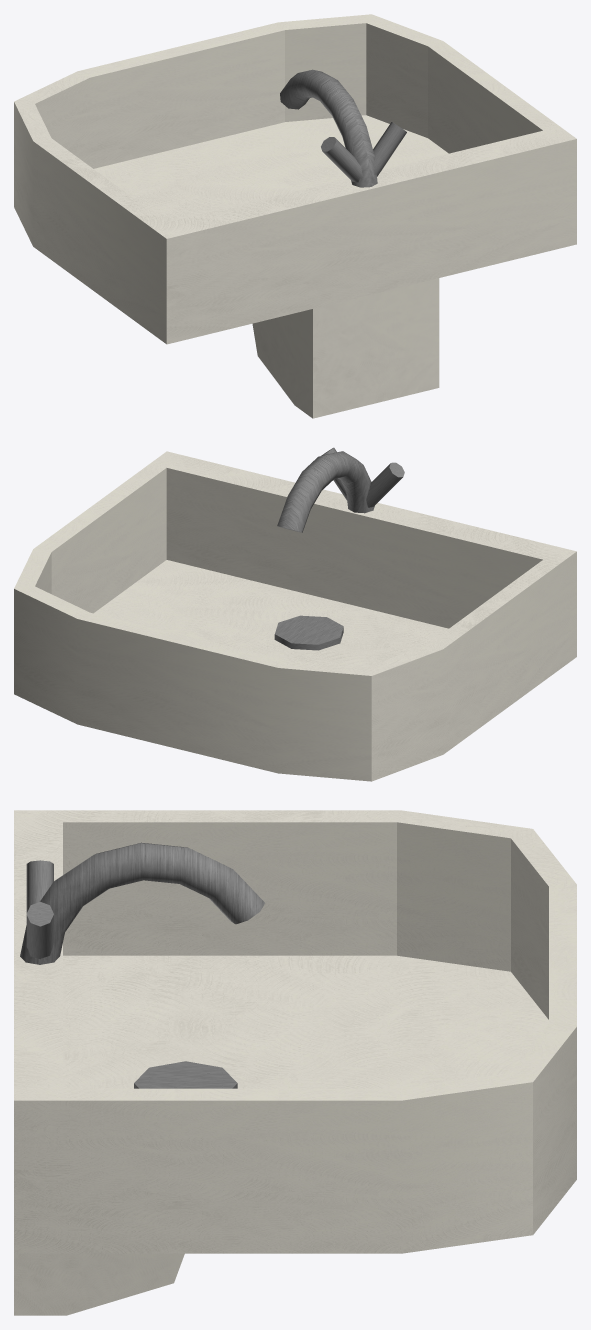
The model's file is Sink.FBX.
The picture shows the model from 3 angles, top to bottom: view 1: azimuth 30°, elevation 25°; view 2: azimuth 150°, elevation 25°; view 3: azimuth 270°, elevation 25°; orthographic projection. The views are drawn at different scales.
Visible parts, largest first — view 1: Box001, Box002, Cylinder001, Cylinder003, Cylinder002; view 2: Box001, Cylinder001, Cylinder004, Cylinder003; view 3: Box001, Cylinder001, Box002, Cylinder004, Cylinder002, Cylinder003.
Boxes of the visible parts, x1,y1,x2,y2 form: Box001: [14, 14, 576, 344]; Box002: [252, 278, 439, 418]; Cylinder001: [280, 69, 377, 187]; Cylinder003: [321, 137, 363, 182]; Cylinder002: [373, 122, 406, 176]; Box001: [14, 451, 576, 781]; Cylinder001: [277, 451, 374, 532]; Cylinder004: [274, 615, 343, 650]; Cylinder003: [366, 462, 404, 507]; Box001: [14, 810, 576, 1253]; Cylinder001: [20, 842, 264, 964]; Box002: [14, 1253, 184, 1315]; Cylinder004: [134, 1061, 237, 1088]; Cylinder002: [26, 901, 53, 959]; Cylinder003: [26, 860, 53, 913].
Size of the model in its own units: 24.02 by 16.41 by 19.69.
2 materials, 2 textured.
